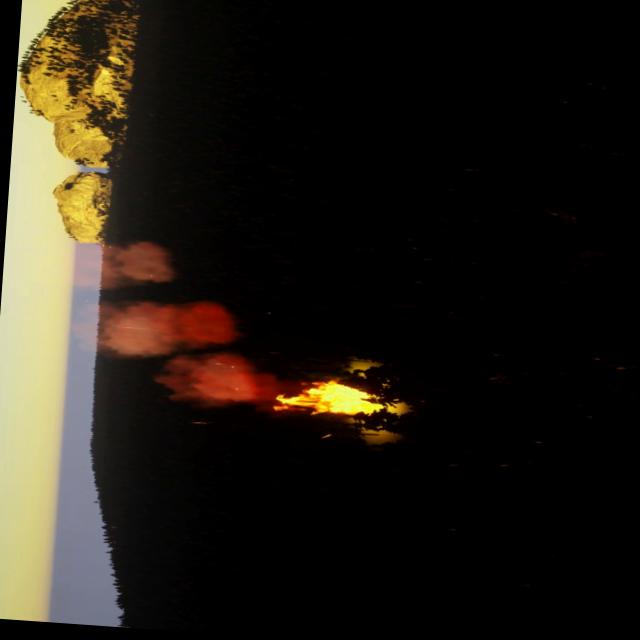fire: (270, 369, 386, 423)
smoke: (80, 288, 238, 361), (152, 347, 282, 412), (72, 232, 180, 292)
